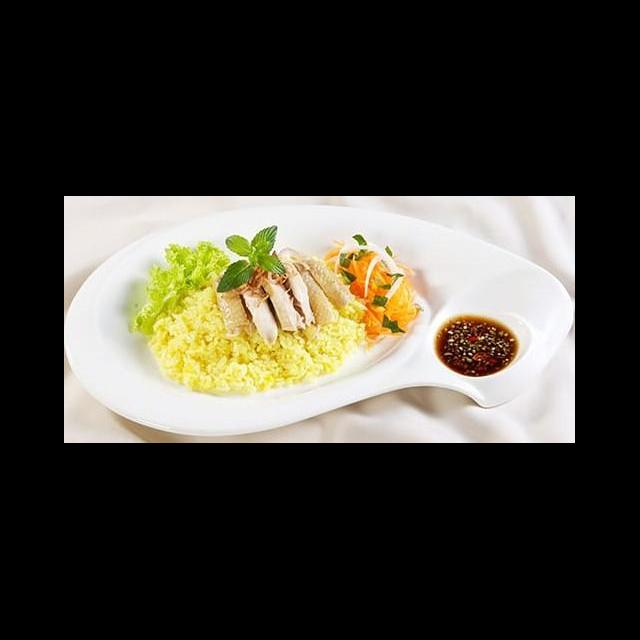com: (146, 282, 228, 398), (220, 330, 326, 398), (318, 296, 372, 374)
com ga: (69, 231, 424, 444)
thit ga: (210, 244, 354, 350)
